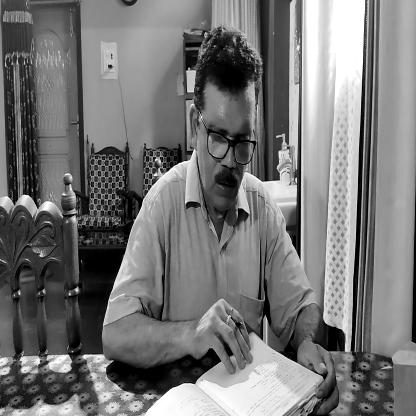Normal: (204, 81, 256, 227)
